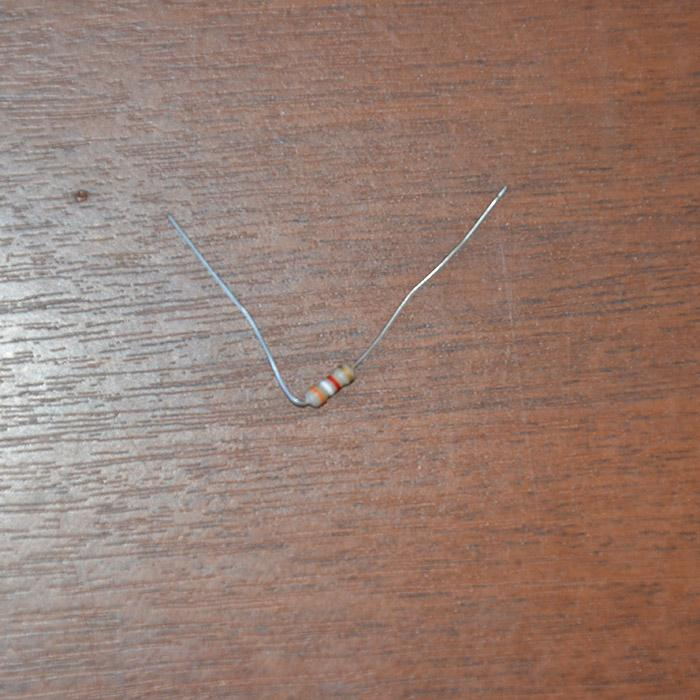resistor: (303, 363, 357, 409)
